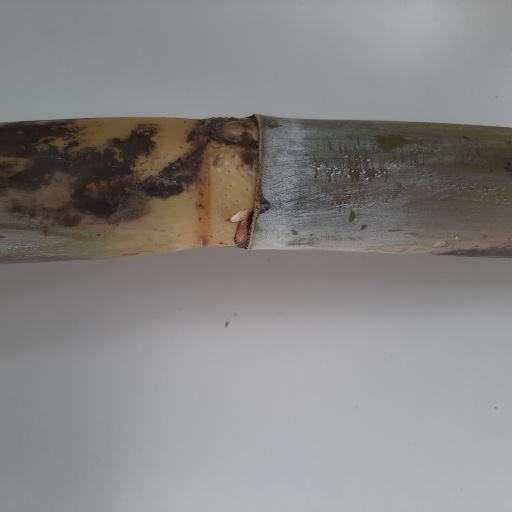Bud: (208, 118, 253, 143)
